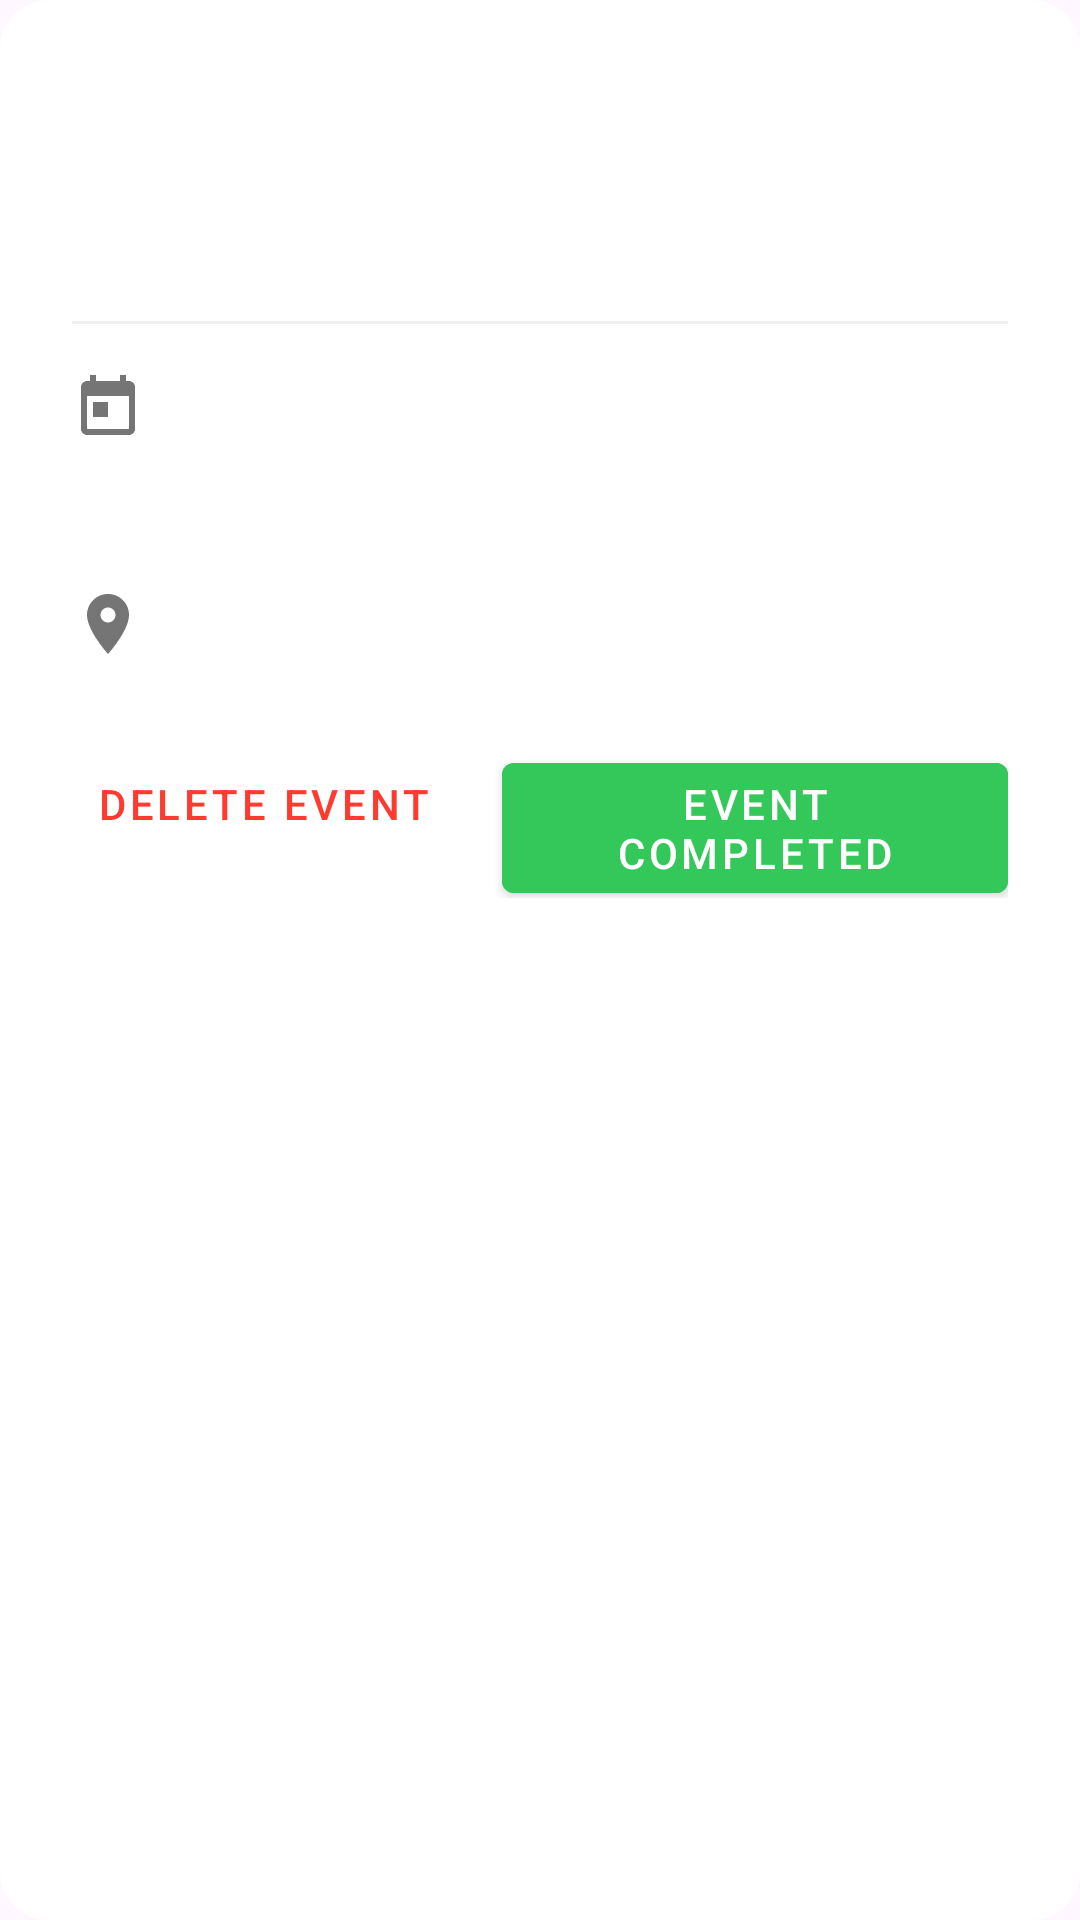

Screen size 1080 × 1920. Icon name, then its box in pixels as [x1=x1, y1=y1, x2=x2, y2=y2]:
calendar: [x1=81, y1=375, x2=135, y2=435]
location: [x1=87, y1=594, x2=129, y2=654]
